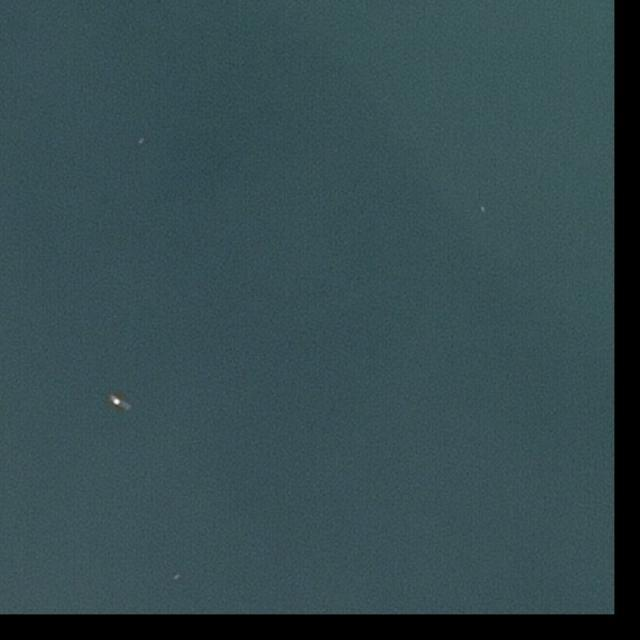ship: (110, 394, 133, 414), (172, 571, 183, 582), (138, 138, 145, 145), (481, 206, 486, 213)
